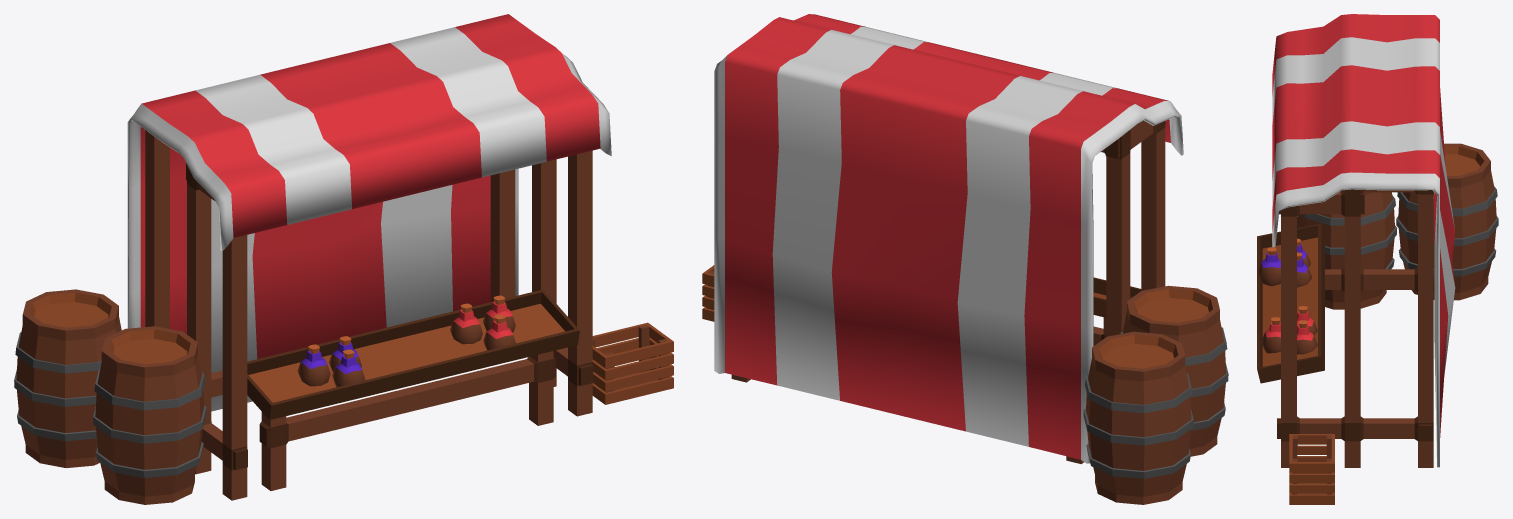
The model's file is MarketStall 1.fbx.
The picture shows the model from 3 angles, left to right: view 1: azimuth 30°, elevation 25°; view 2: azimuth 150°, elevation 25°; view 3: azimuth 270°, elevation 25°; orthographic projection. The views are drawn at different scales.
Parts seen in each view (by area): view 1: MarketStall, Potions.001, Potions; view 2: MarketStall; view 3: MarketStall, Potions.001, Potions.
Part boxes in pixels (box(x1,y1,x2,y2)): MarketStall: box(14, 14, 673, 504); Potions.001: box(450, 295, 515, 350); Potions: box(297, 336, 365, 387); MarketStall: box(702, 14, 1228, 504); MarketStall: box(1257, 14, 1498, 504); Potions.001: box(1261, 306, 1317, 354); Potions: box(1257, 238, 1311, 287).
Size of the model in its own units: 3.6 by 2.06 by 1.52.
